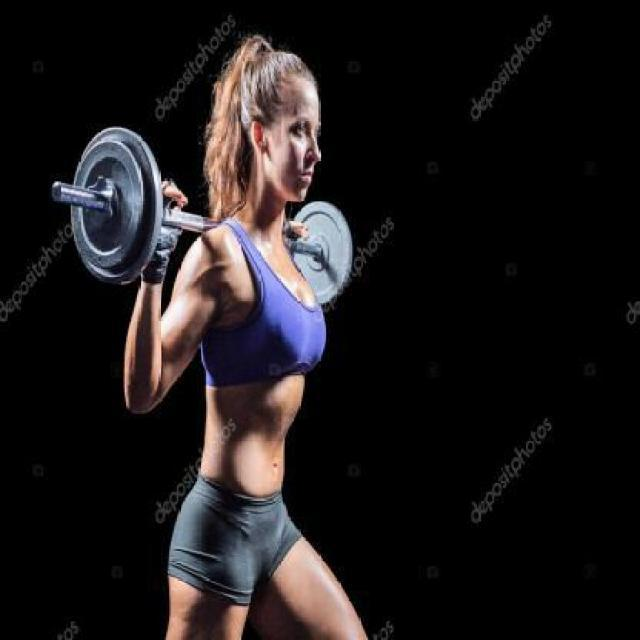Barbell: (49, 174, 66, 209)
